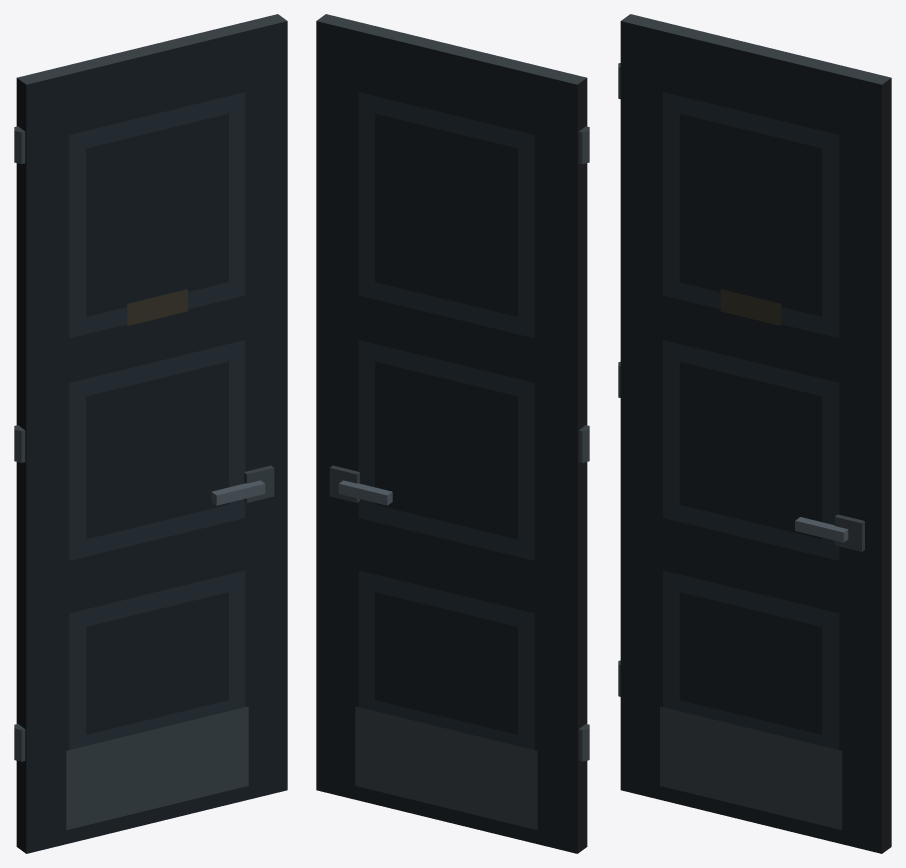
Rendered from lp_service_door_leaf.glb.
3 views of the same model, side by side, from view 1: azimuth 30°, elevation 25°; view 2: azimuth 150°, elevation 25°; view 3: azimuth 330°, elevation 25° (orthographic).
Visible parts, largest first — view 1: lp_service_door_leaf; view 2: lp_service_door_leaf; view 3: lp_service_door_leaf.
Boxes of the visible parts, <box> form: lp_service_door_leaf: <box>14,14,287,853</box>; lp_service_door_leaf: <box>316,14,589,853</box>; lp_service_door_leaf: <box>618,14,891,853</box>.
Bounding box in the file's own units: 0.884 × 2.42 × 0.145.
1 material, 1 textured.
